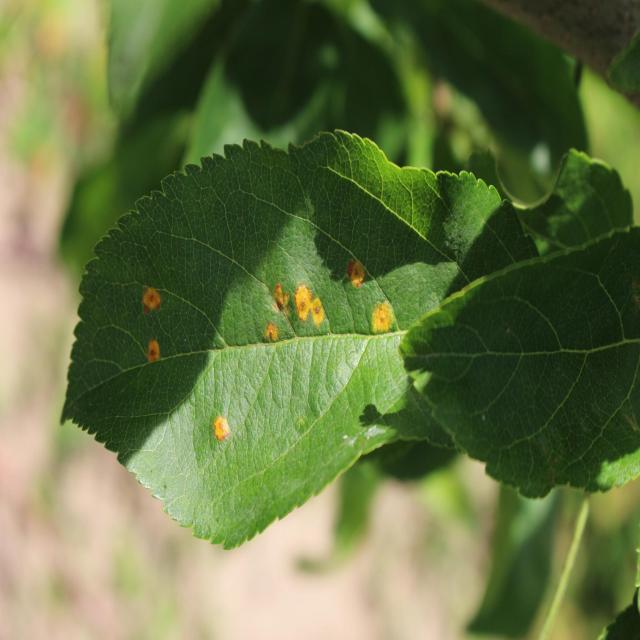Rust: (290, 268, 334, 344), (365, 288, 400, 350), (116, 278, 176, 314), (126, 332, 175, 370), (255, 313, 292, 357), (266, 277, 300, 323), (343, 239, 366, 298), (204, 409, 234, 446)
